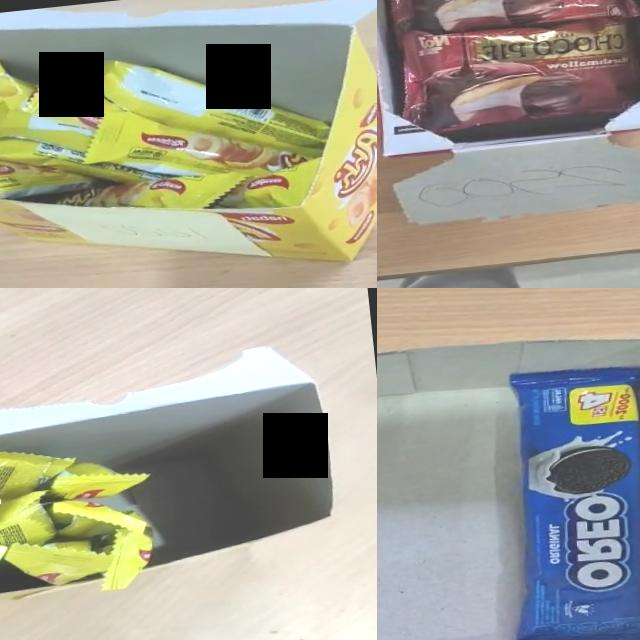Ahh: (76, 38, 334, 174), (80, 88, 320, 192), (0, 83, 171, 198), (0, 100, 99, 215), (53, 168, 253, 224), (22, 64, 135, 140), (210, 157, 324, 215), (1, 536, 115, 590), (42, 454, 152, 504), (0, 438, 80, 501), (45, 492, 148, 540), (91, 524, 156, 591), (0, 489, 64, 553), (0, 47, 41, 122)
Chocopie: (391, 7, 640, 134), (384, 0, 640, 39)
Oreo: (483, 358, 640, 640)
